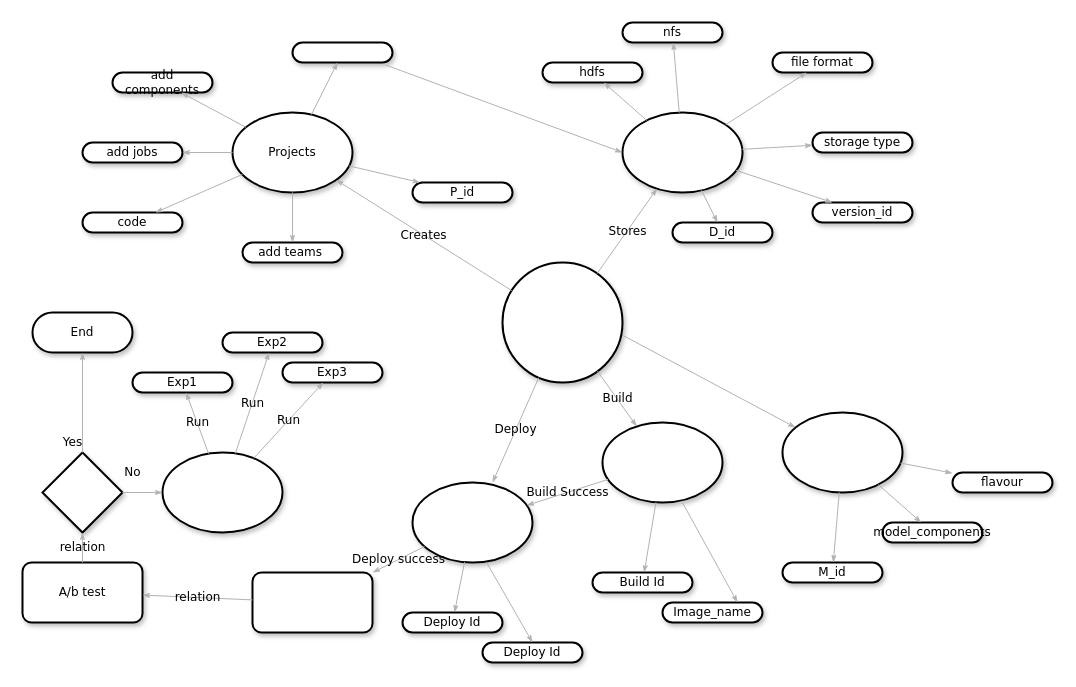
Some shapes in this 1076 by 687 pixel diagram are drawn without their labels. Each missing label, with the centre of its shape:
"Build Component" belongs at point (663, 463).
"Data Ops" belongs at point (683, 153).
"Deploy component /model" belongs at point (473, 523).
"desired output" belongs at point (83, 493).
"Experiments run" belongs at point (313, 603).
"Kubeflow Pipeline" belongs at point (223, 493).
"Monitor Model" belongs at point (843, 453).
"PV_storage_space" belongs at point (343, 53).
"User" belongs at point (563, 323).
